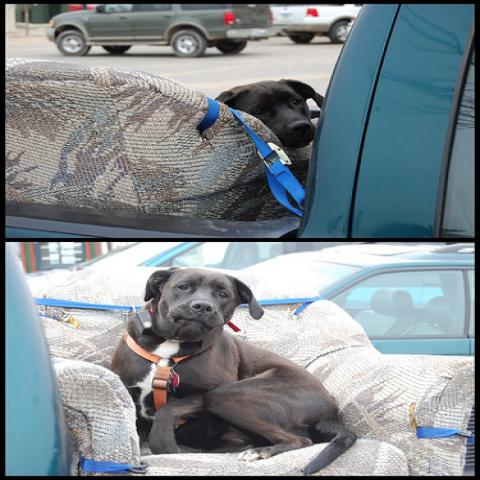car: (74, 242, 479, 358), (45, 3, 277, 59), (276, 4, 364, 43)
